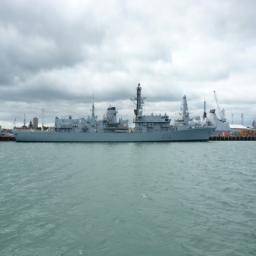Fragata: (11, 98, 218, 146)
